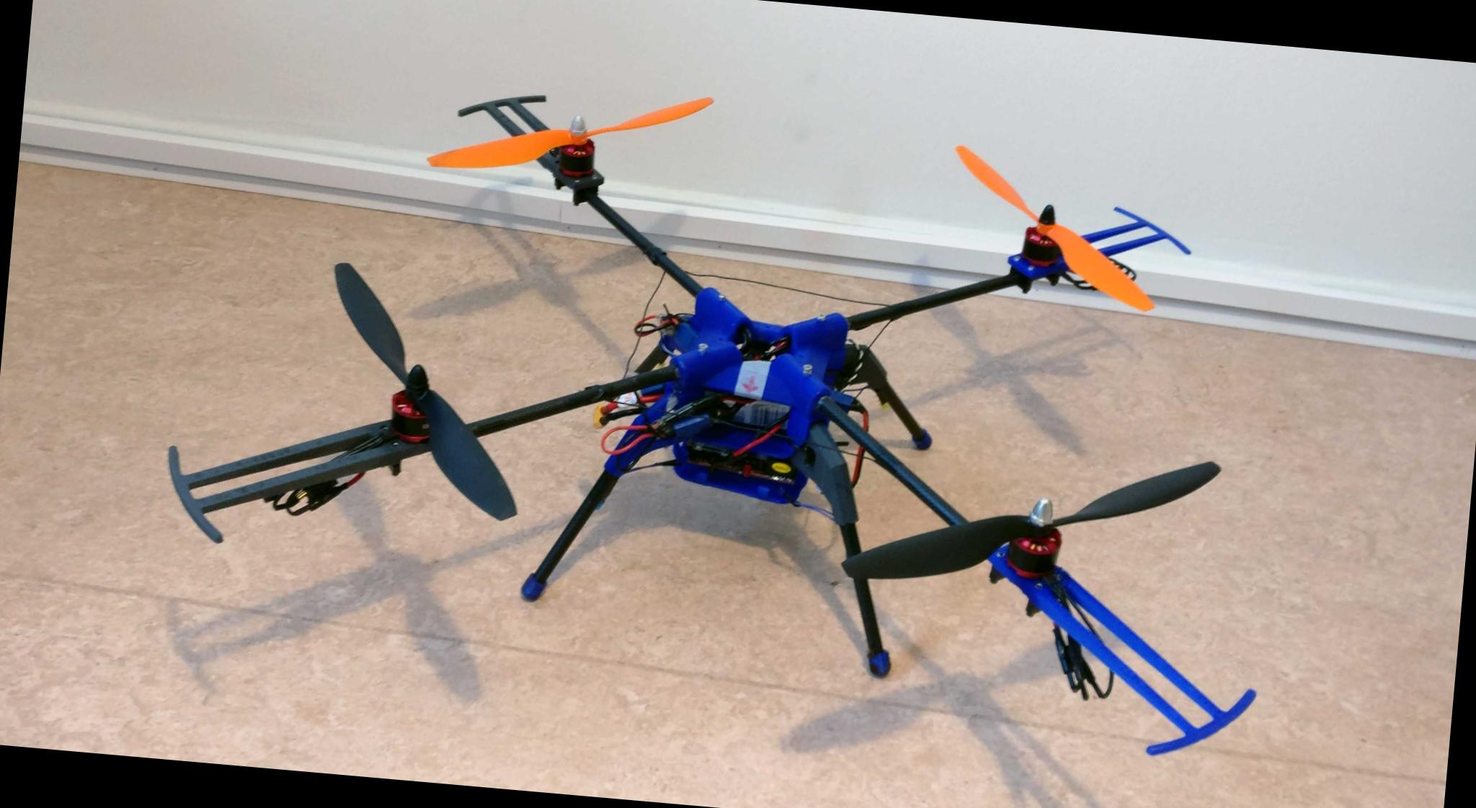drone: (100, 45, 1333, 791)
